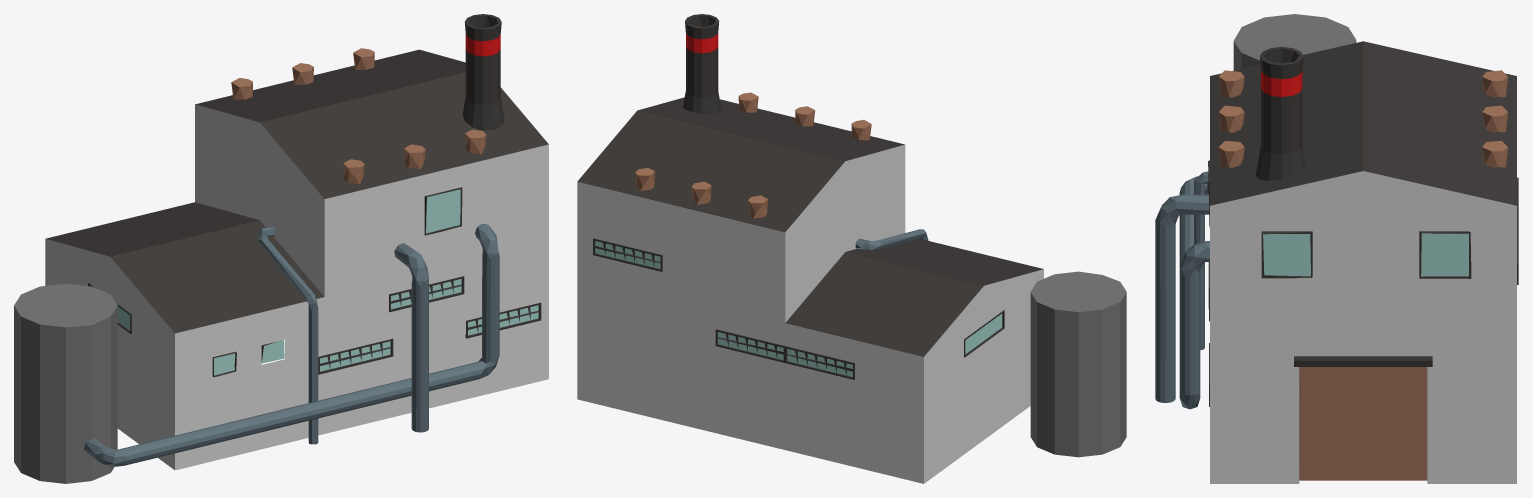
The model's file is SM_Factory_Refinery_02.glb.
The picture shows the model from 3 angles, left to right: view 1: azimuth 30°, elevation 25°; view 2: azimuth 150°, elevation 25°; view 3: azimuth 270°, elevation 25°; orthographic projection. The views are drawn at different scales.
Visible parts, largest first — view 1: SM_Factory_Refinery_02; view 2: SM_Factory_Refinery_02; view 3: SM_Factory_Refinery_02.
Boxes of the visible parts, bbox=[...] form: SM_Factory_Refinery_02: bbox=[14, 14, 548, 483]; SM_Factory_Refinery_02: bbox=[577, 14, 1126, 483]; SM_Factory_Refinery_02: bbox=[1155, 14, 1518, 483].
Bounding box in the file's own units: 26.75 × 17.71 × 14.21.
1 material, 1 textured.
